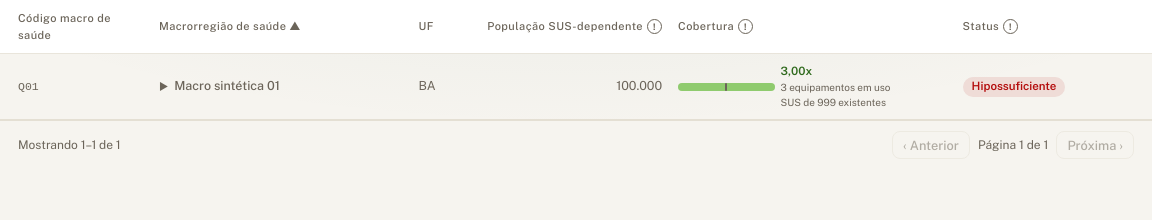
tabela de cobertura com componentes e consultas reais › trata expansão com retorno vazio sem inventar cobertura
Step 1. Click the text "Macro sintética 01" → (282, 87), box [151,54,412,120]
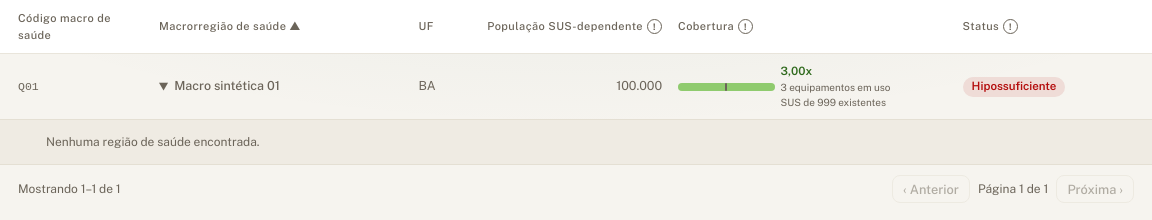
Expected: the text "Nenhuma região de saúde encontrada." is shown, [46,135,260,149]
